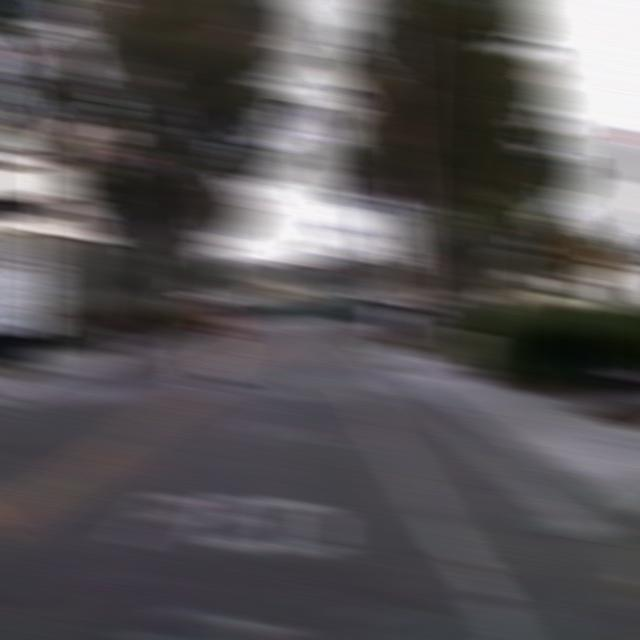pedestrianCrossing: (560, 217, 612, 284)
